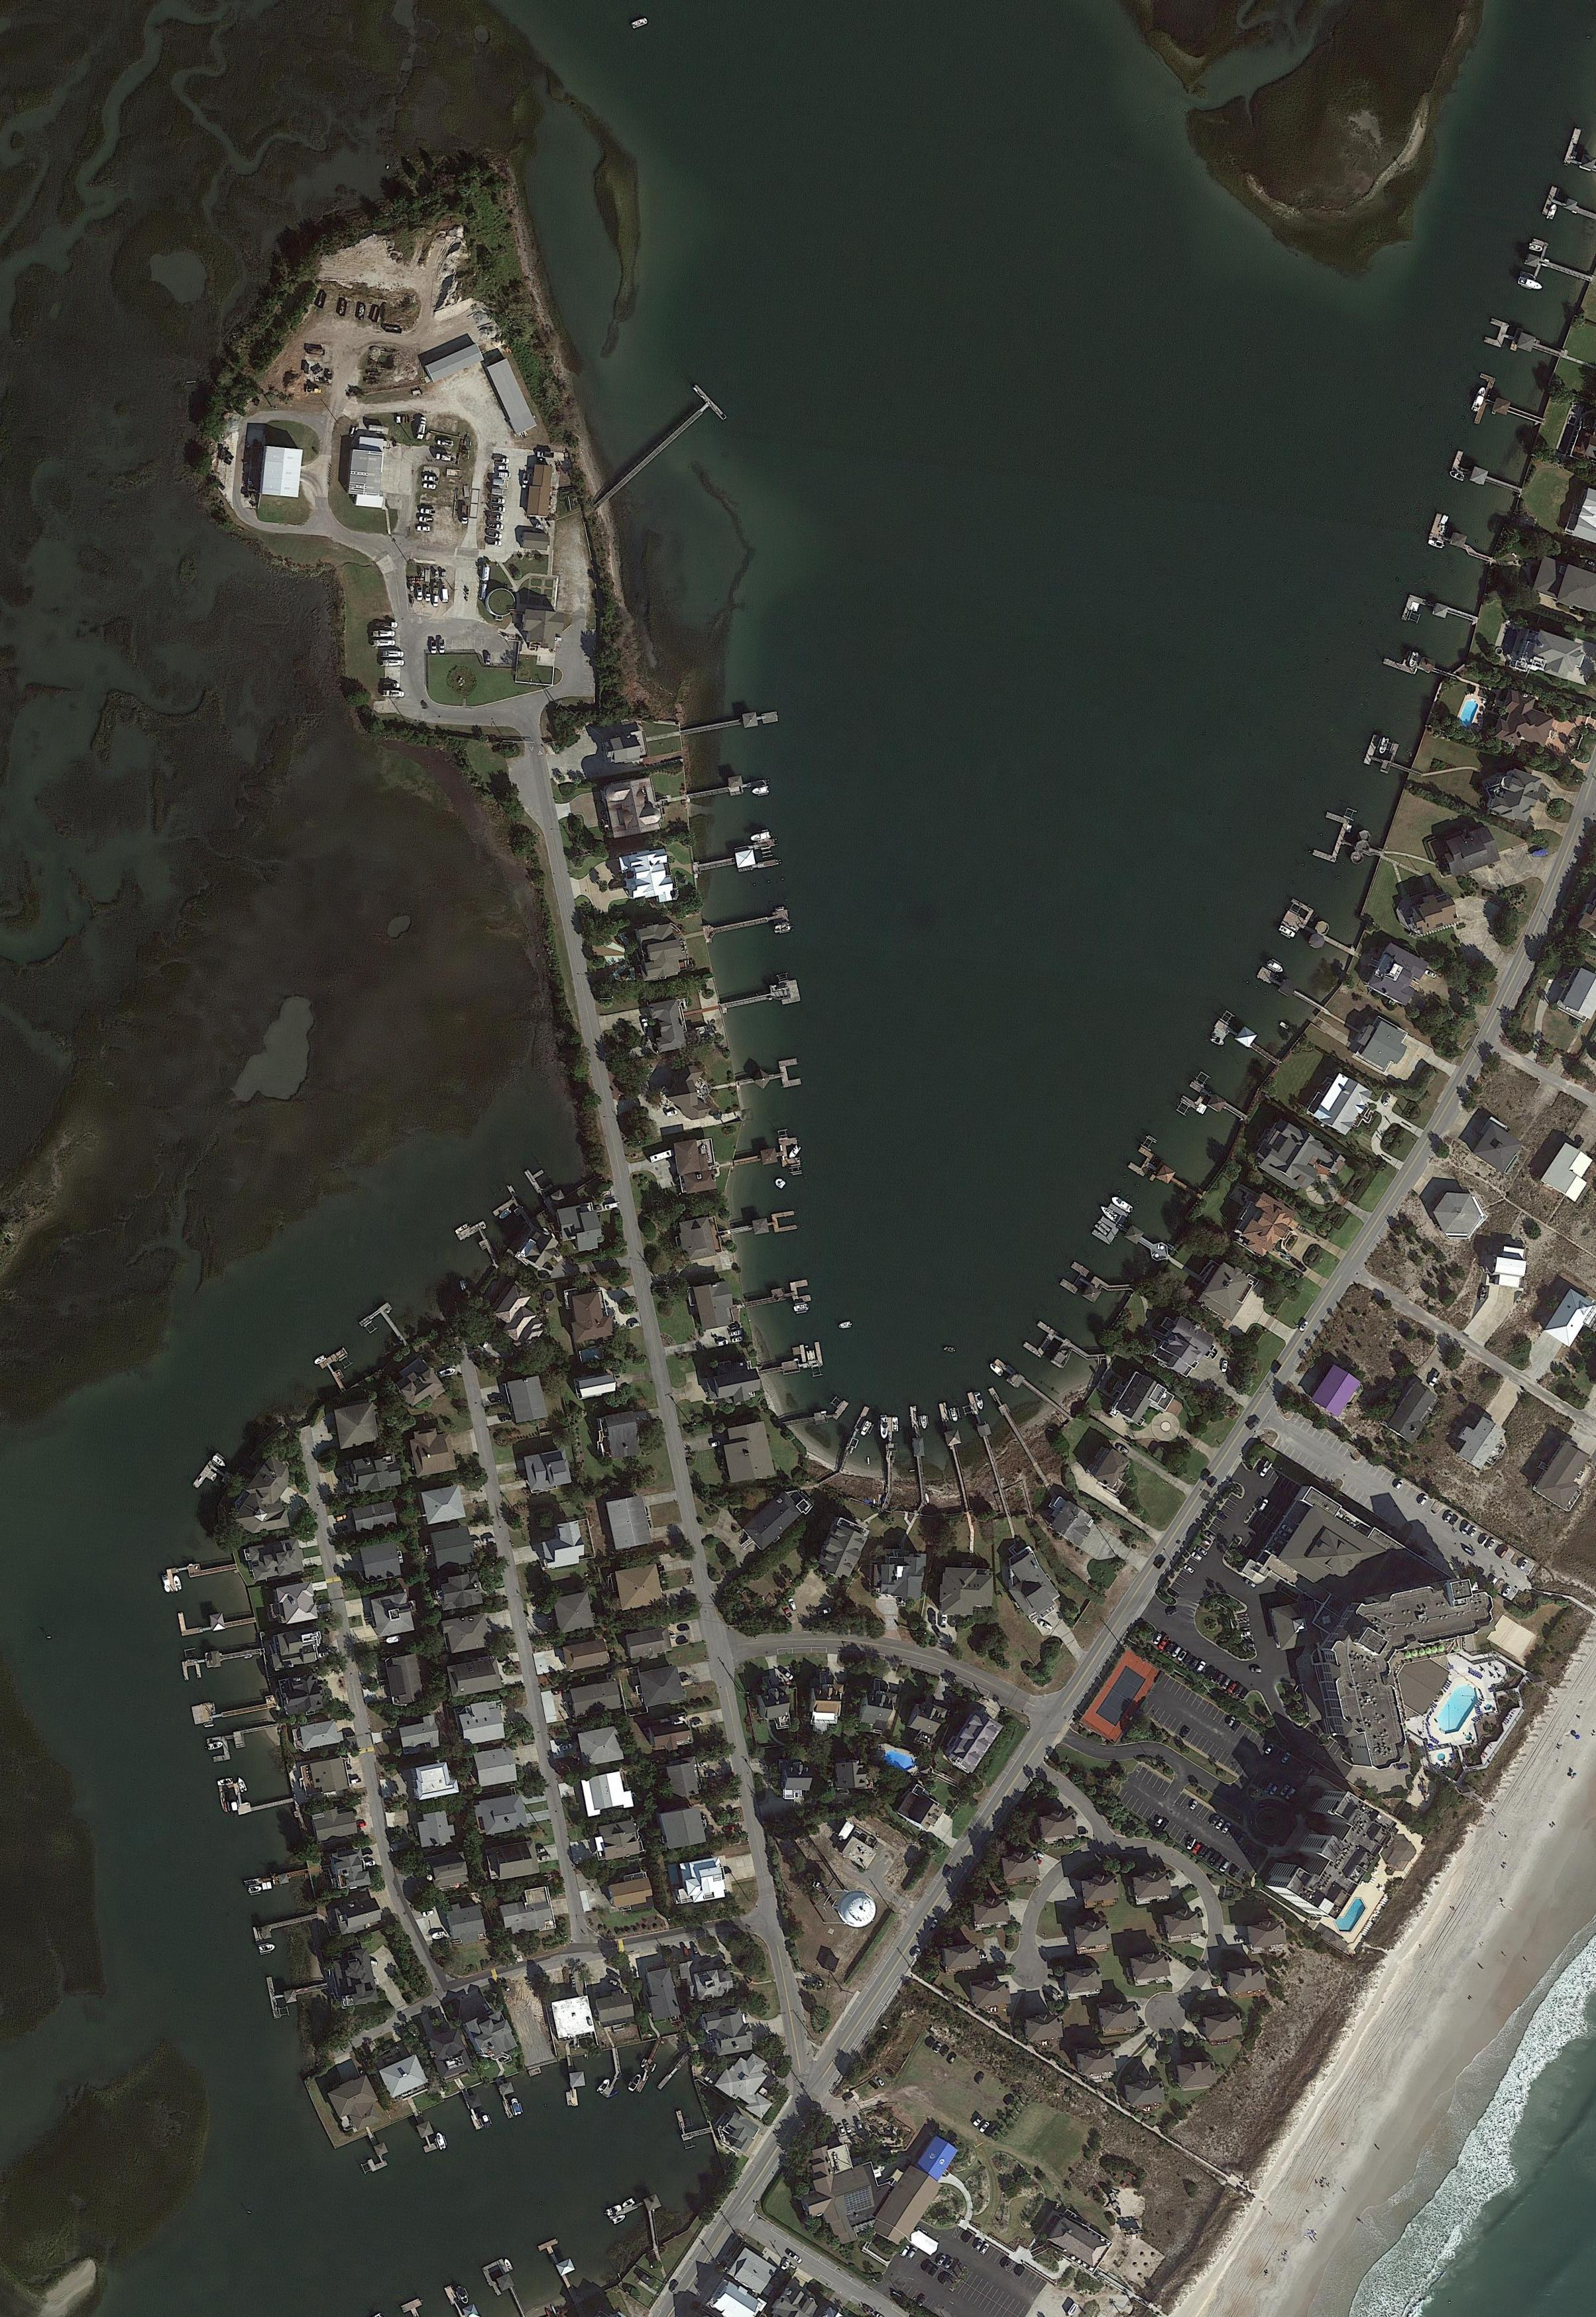harbor: (588, 384, 728, 519), (986, 1384, 1052, 1489), (964, 1389, 1015, 1516), (1092, 1204, 1179, 1276), (990, 1357, 1071, 1426), (1312, 812, 1390, 882), (1281, 898, 1362, 963), (1210, 1011, 1288, 1078), (1127, 1144, 1207, 1210), (1518, 238, 1596, 301), (1483, 317, 1564, 368), (1023, 1320, 1092, 1380), (939, 1400, 976, 1511), (1400, 593, 1480, 644), (1180, 1079, 1249, 1137), (1254, 963, 1326, 1018), (1427, 512, 1501, 565), (218, 1769, 294, 1820), (694, 838, 780, 882), (266, 1965, 335, 2019), (1450, 451, 1527, 498), (537, 2236, 587, 2310), (720, 979, 802, 1019), (181, 1644, 266, 1683), (359, 1301, 414, 1361), (1383, 646, 1457, 690), (703, 907, 791, 944), (685, 771, 772, 806), (192, 1690, 278, 1725), (206, 1724, 284, 1762), (682, 710, 780, 739), (178, 1599, 252, 1637), (729, 1136, 802, 1174), (1541, 185, 1596, 236), (483, 2257, 528, 2317), (833, 1405, 874, 1472), (1059, 1261, 1112, 1312), (1363, 732, 1418, 782), (735, 1058, 802, 1097), (743, 1278, 812, 1315), (167, 1558, 238, 1592), (759, 1342, 823, 1379), (458, 1222, 500, 1276), (317, 1347, 361, 1398), (731, 1210, 798, 1243), (254, 1912, 324, 1944), (491, 1197, 537, 1243), (909, 1405, 930, 1504), (632, 2039, 668, 2093), (1464, 373, 1497, 426), (245, 1868, 312, 1894), (192, 1460, 233, 1502), (655, 2051, 694, 2092), (675, 2102, 713, 2143), (358, 2130, 395, 2173), (1564, 129, 1596, 176), (409, 2109, 440, 2155), (444, 2280, 483, 2317), (460, 2086, 491, 2130), (560, 2058, 588, 2107), (523, 1162, 557, 1203), (641, 2194, 666, 2248), (495, 2076, 523, 2120), (884, 1416, 897, 1491), (786, 1410, 828, 1430), (610, 2199, 645, 2222), (824, 1394, 849, 1421), (601, 2071, 622, 2097), (402, 2298, 428, 2317)
ship: (1469, 386, 1490, 416), (1517, 273, 1545, 292), (1108, 1195, 1134, 1215), (1099, 1204, 1120, 1224), (454, 2285, 472, 2305), (750, 829, 773, 843), (1277, 923, 1297, 938), (627, 2072, 643, 2092), (787, 1143, 803, 1160), (211, 1453, 229, 1468), (1545, 202, 1559, 222), (1267, 960, 1286, 974), (629, 16, 648, 30), (1376, 738, 1390, 755), (372, 639, 395, 650), (454, 1222, 474, 1234), (439, 1366, 458, 1379), (511, 2097, 523, 2116), (257, 1942, 277, 1954), (171, 1574, 183, 1593), (1208, 1033, 1224, 1048), (860, 1421, 874, 1437), (990, 1361, 1004, 1377), (435, 2130, 446, 2151), (602, 2204, 624, 2215), (881, 1416, 890, 1440), (599, 2076, 611, 2093), (430, 1931, 449, 1942), (382, 690, 405, 699), (372, 630, 395, 639), (499, 1206, 511, 1222), (236, 1776, 248, 1792), (210, 1740, 225, 1752), (750, 785, 768, 796), (1409, 651, 1420, 669), (974, 1393, 985, 1410), (379, 660, 405, 667), (379, 650, 403, 657), (375, 622, 398, 629), (1529, 241, 1543, 252), (504, 2257, 514, 2271), (622, 2197, 636, 2208), (949, 1407, 958, 1423), (891, 1417, 900, 1431), (314, 1356, 328, 1364), (794, 1305, 810, 1312), (248, 1886, 264, 1893), (839, 1322, 853, 1329), (942, 1345, 957, 1352), (920, 1416, 927, 1430), (382, 683, 400, 688)
